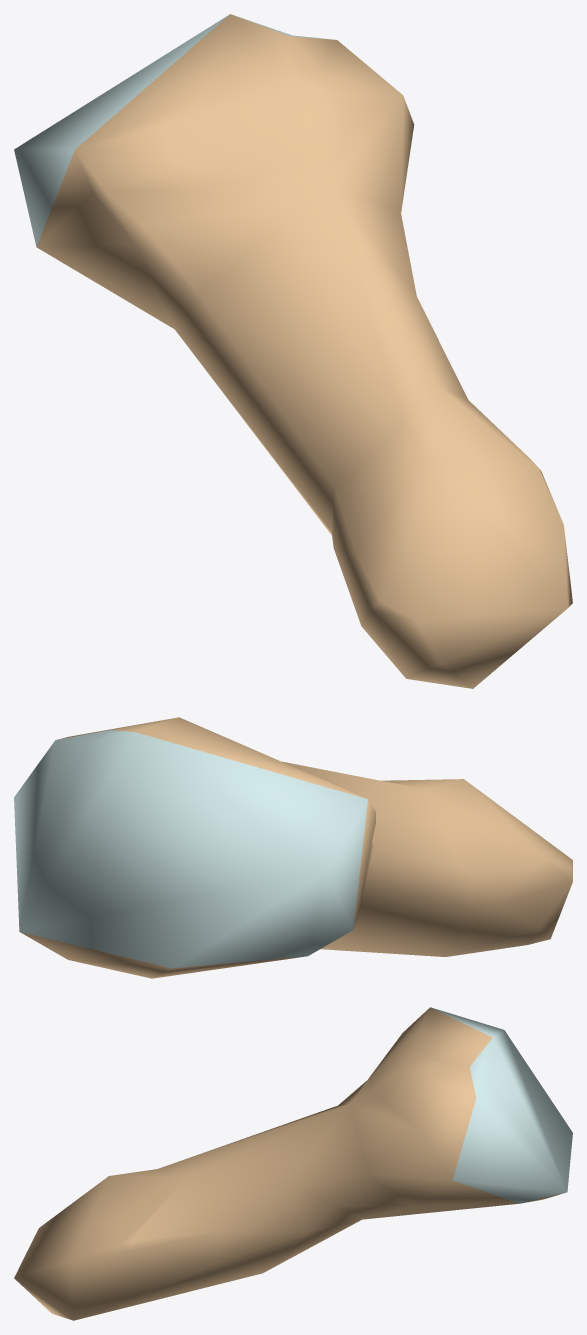
The model's file is Distal_phalanx_fourth_finger_right.glb.
The picture shows the model from 3 angles, top to bottom: view 1: azimuth 30°, elevation 25°; view 2: azimuth 150°, elevation 25°; view 3: azimuth 270°, elevation 25°; orthographic projection. The views are drawn at different scales.
Visible parts, largest first — view 1: Distal_phalanx_of_4th_finger.r_Generated_Mesh_From_X3D.725; view 2: Distal_phalanx_of_4th_finger.r_Generated_Mesh_From_X3D.725; view 3: Distal_phalanx_of_4th_finger.r_Generated_Mesh_From_X3D.725.
Boxes of the visible parts, x1,y1,x2,y2 form: Distal_phalanx_of_4th_finger.r_Generated_Mesh_From_X3D.725: [14, 14, 572, 688]; Distal_phalanx_of_4th_finger.r_Generated_Mesh_From_X3D.725: [14, 717, 572, 978]; Distal_phalanx_of_4th_finger.r_Generated_Mesh_From_X3D.725: [14, 1007, 572, 1320].
Size of the model in its own units: 0.00861 by 0.00961 by 0.0162.
